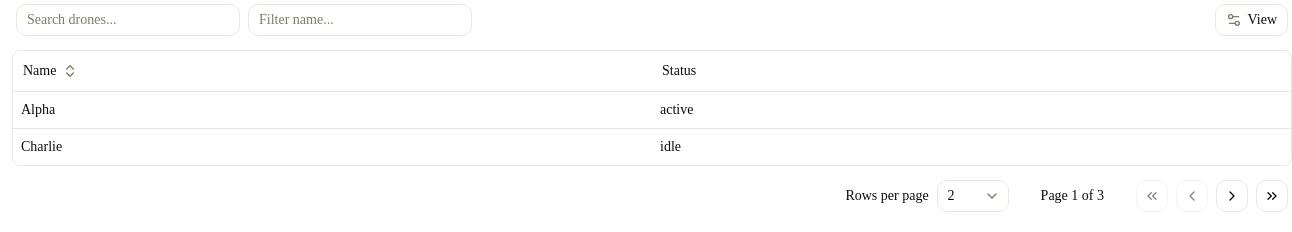
DataTable › paginates through pages with pagination controls
This screenshot has width=1292, height=232.
Expected: the text "Page 1 of 3" is shown, [1041,186,1104,206]
Expected: the text "Alpha" is shown, [13,91,652,128]
What coordinates should you click on to do the following:
click the button named "Go to next page"
I would click on:
 (1232, 196)
Its box is [1216,180,1248,212].
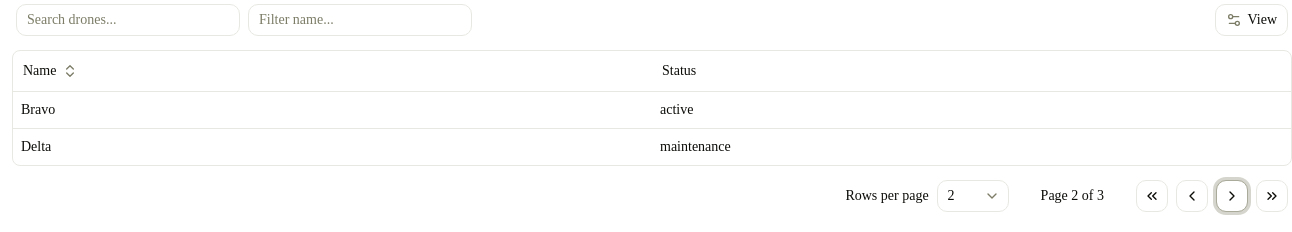
Expected: the text "Page 2 of 3" is shown, [1041,186,1104,206]
Expected: the text "Bravo" is shown, [13,91,652,128]
What coordinates should you click on to do the following:
click the button named "Go to last page"
I would click on:
 (1272, 196)
Its box is [1256,180,1288,212].
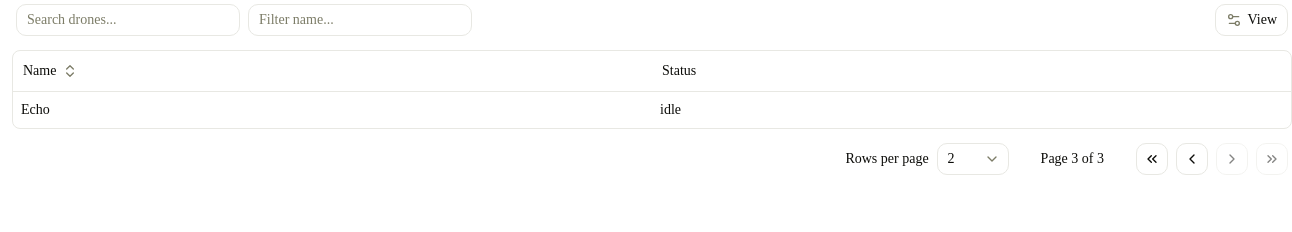
Expected: the text "Page 3 of 3" is shown, [1041,148,1104,168]
Expected: the text "Echo" is shown, [13,91,652,128]
Expected: the button named "Go to next page" is disabled, [1216,142,1248,174]
What coordinates should you click on to do the following:
click the button named "Go to previous page"
I would click on:
 (1192, 158)
Its box is [1176,142,1208,174].
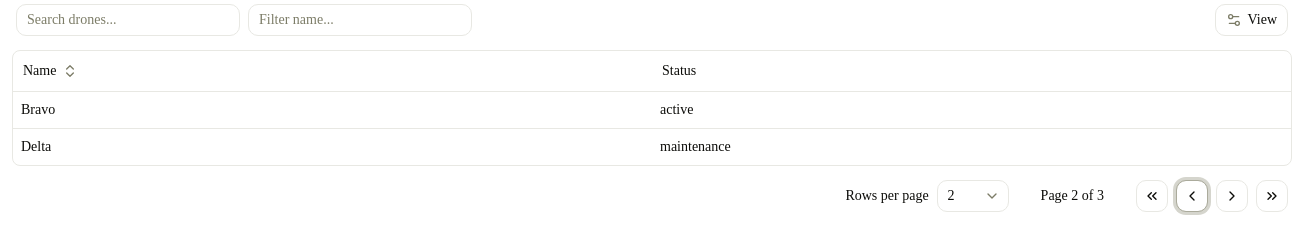
Expected: the text "Page 2 of 3" is shown, [1041,186,1104,206]
What coordinates should you click on to do the following:
click the button named "Go to first page"
I would click on:
 (1152, 196)
Its box is [1136,180,1168,212].
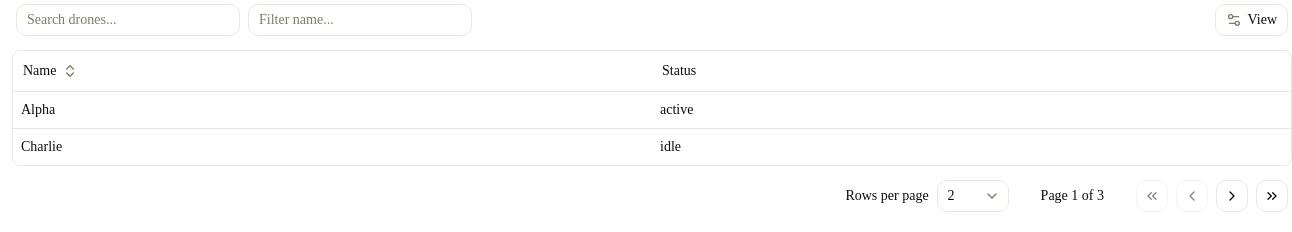
Expected: the text "Page 1 of 3" is shown, [1041,186,1104,206]
